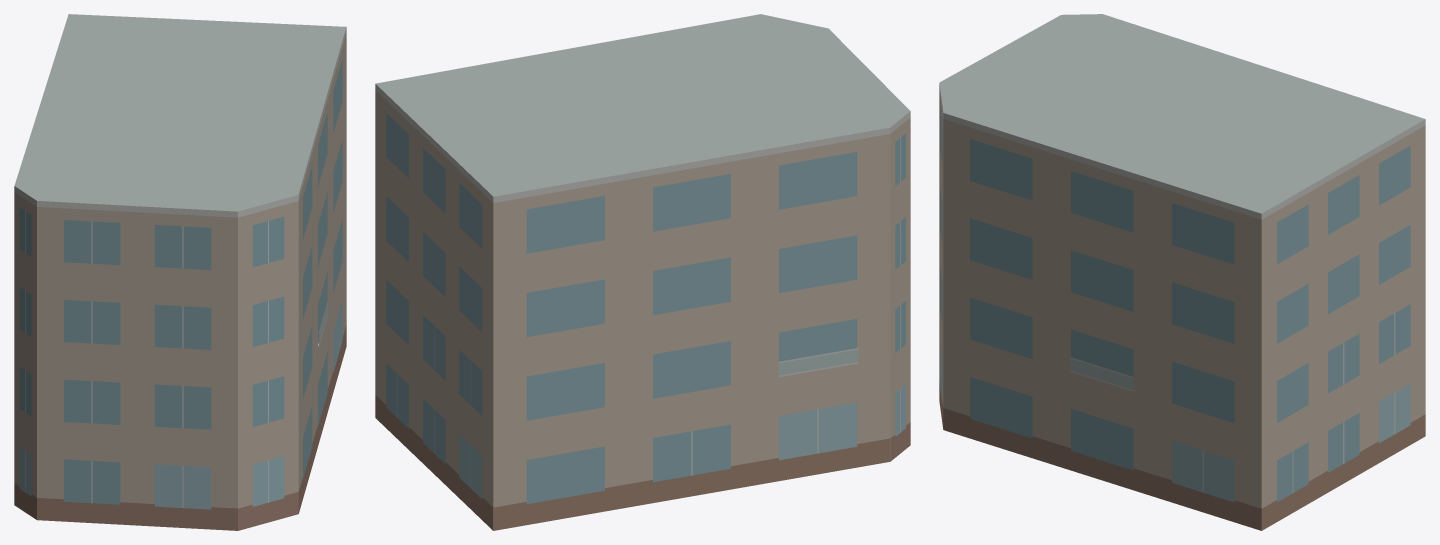
Rendered from survey-upis-32936488.glb.
3 views of the same model, side by side, from view 1: azimuth 30°, elevation 25°; view 2: azimuth 150°, elevation 25°; view 3: azimuth 270°, elevation 25° (orthographic). The views are drawn at different scales.
Visible parts, largest first — view 1: survey-upis-32936488.tmp; view 2: survey-upis-32936488.tmp; view 3: survey-upis-32936488.tmp.
Part boxes in pixels (x1,y1,x2,y2): survey-upis-32936488.tmp: (14, 14, 346, 530); survey-upis-32936488.tmp: (375, 14, 910, 530); survey-upis-32936488.tmp: (939, 14, 1425, 530).
Bounding box in the file's own units: 17.3 × 12.8 × 17.8.
